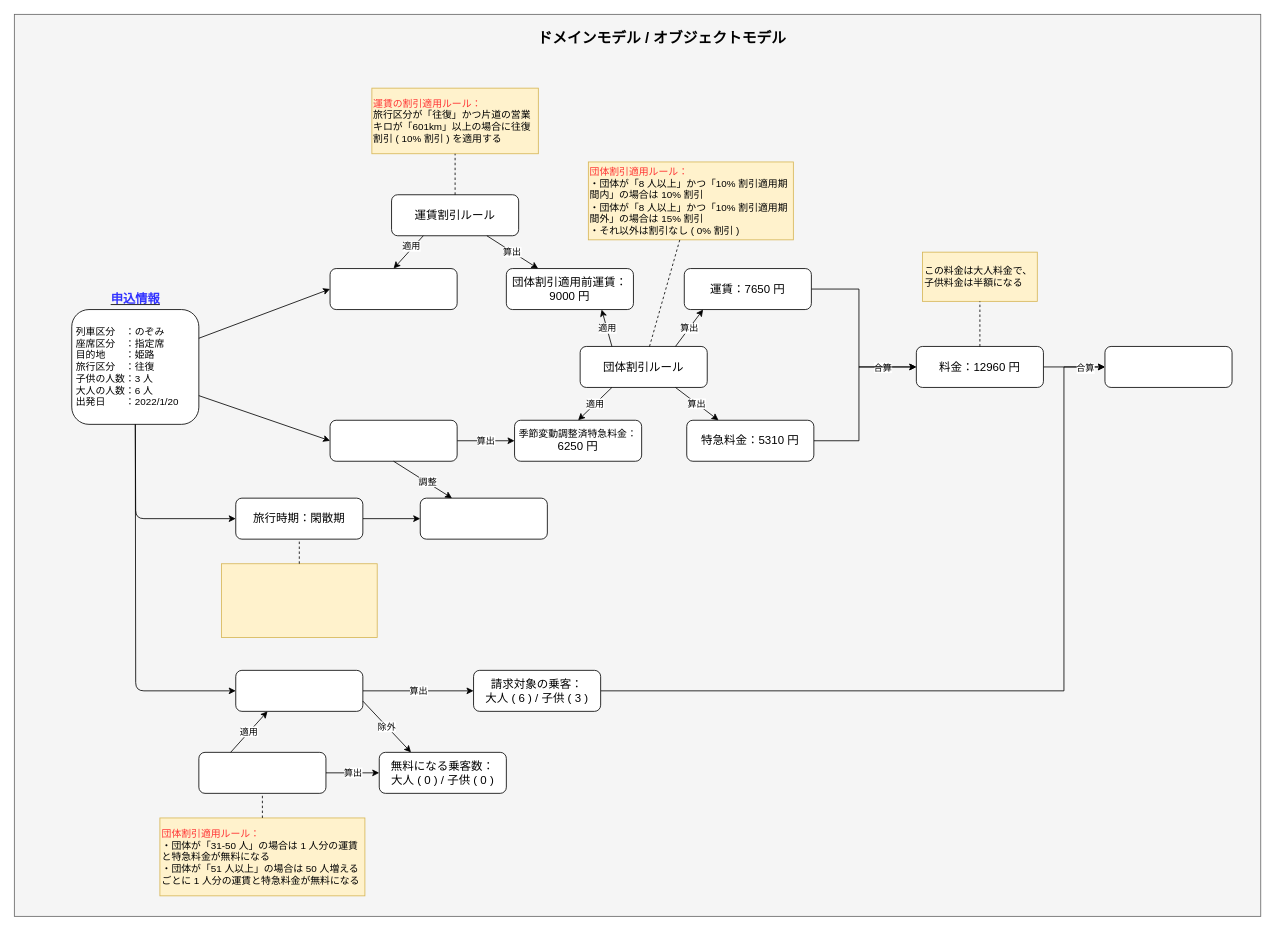
The diagram is 1275 pixels wide and 931 high, and some of its shapes have lost their labels. The shapes that lost their labels are listed below. From the top down, each one's centre as x and y in pixels, then its label:
point 393,289: 基本運賃：10010 円
point 1168,366: トータル料金： 194400 円
point 393,440: 基本特急料金：6450 円
point 483,518: 季節変動料金：-200 円
point 299,600: 旅行時期 ： ・閑散期間 ( 1/16 - 1/30 ) ・繁忙期間 ( 12/25 - 1/10 ) ・その他 ( - )
point 299,690: 乗客： 大人 ( 6 ) / 子供 ( 3 )
point 262,772: 団体割引適用ルール
